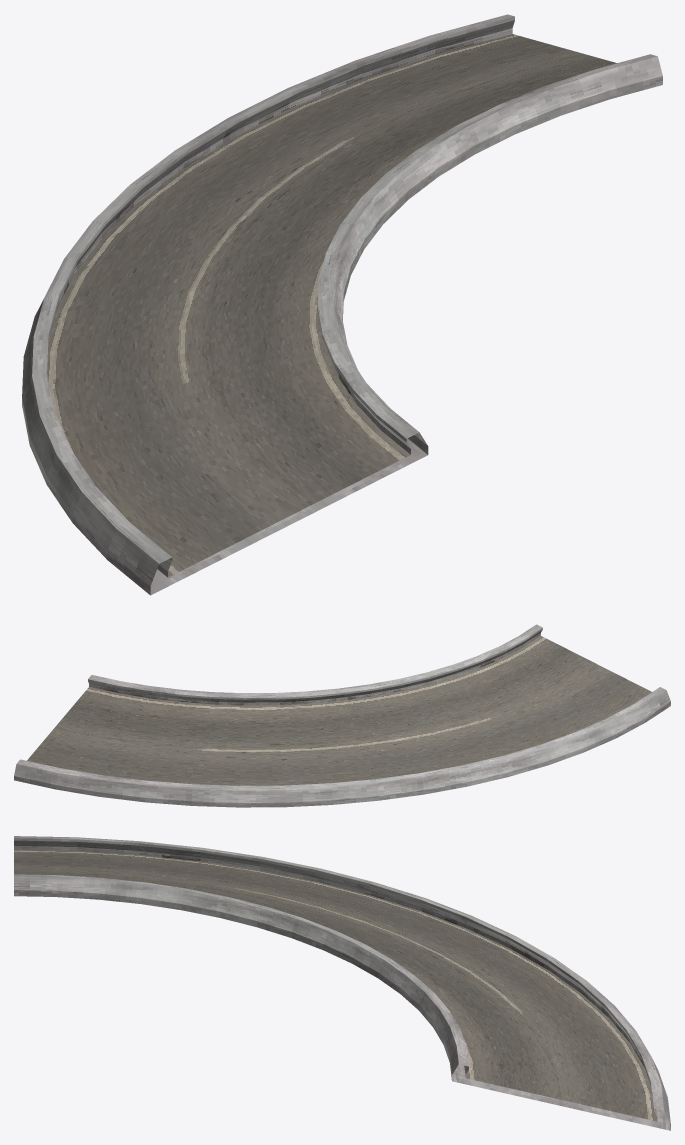
The model's file is turn-right3x3.glb.
3 views of the same model, one above another, from view 1: azimuth 30°, elevation 25°; view 2: azimuth 150°, elevation 25°; view 3: azimuth 270°, elevation 25° (orthographic). The views are drawn at different scales.
Parts seen in each view (by area): view 1: road-Turn-HalfBankedLeft-HalfBankedLeft-Even-Right-Size3; view 2: road-Turn-HalfBankedLeft-HalfBankedLeft-Even-Right-Size3; view 3: road-Turn-HalfBankedLeft-HalfBankedLeft-Even-Right-Size3.
Part boxes in pixels (left/top/right/bottom): road-Turn-HalfBankedLeft-HalfBankedLeft-Even-Right-Size3: left=22, top=14, right=662, bottom=595; road-Turn-HalfBankedLeft-HalfBankedLeft-Even-Right-Size3: left=14, top=624, right=670, bottom=807; road-Turn-HalfBankedLeft-HalfBankedLeft-Even-Right-Size3: left=14, top=836, right=670, bottom=1130.
Size of the model in its own units: 3 by 0.3359 by 3.
Materials: 2 (2 with a texture image).
